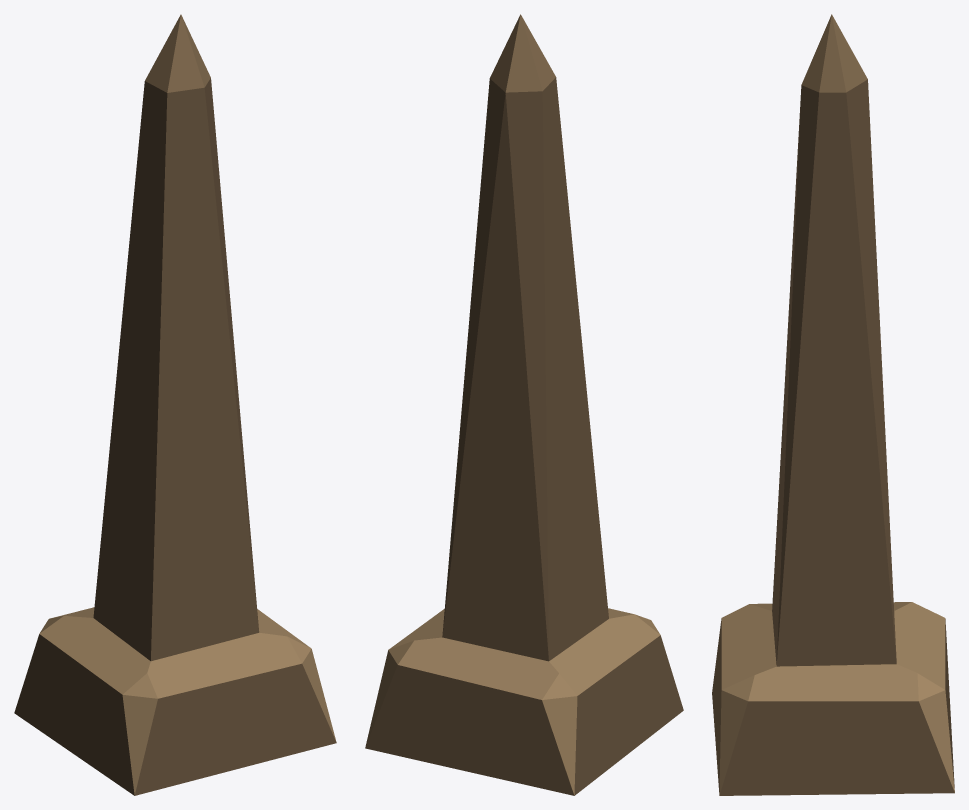
File: RW_HG_Environment_Temple.003.fbx
3 views of the same model, side by side, from view 1: azimuth 30°, elevation 25°; view 2: azimuth 150°, elevation 25°; view 3: azimuth 270°, elevation 25° (orthographic). The views are drawn at different scales.
Visible parts, largest first — view 1: WW_HG_Environment_Temple.003; view 2: WW_HG_Environment_Temple.003; view 3: WW_HG_Environment_Temple.003.
Part boxes in pixels (<box>): WW_HG_Environment_Temple.003: <box>14,14,336,795</box>; WW_HG_Environment_Temple.003: <box>365,14,683,795</box>; WW_HG_Environment_Temple.003: <box>712,14,954,795</box>.
Bounding box in the file's own units: 0.2987 × 0.9642 × 0.2902.
